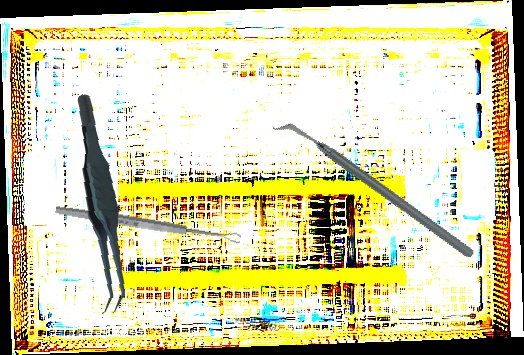Chopper: (271, 69, 478, 311)
Surgical Spoon: (54, 203, 242, 246)
Tissue Forceps: (61, 93, 140, 316)
